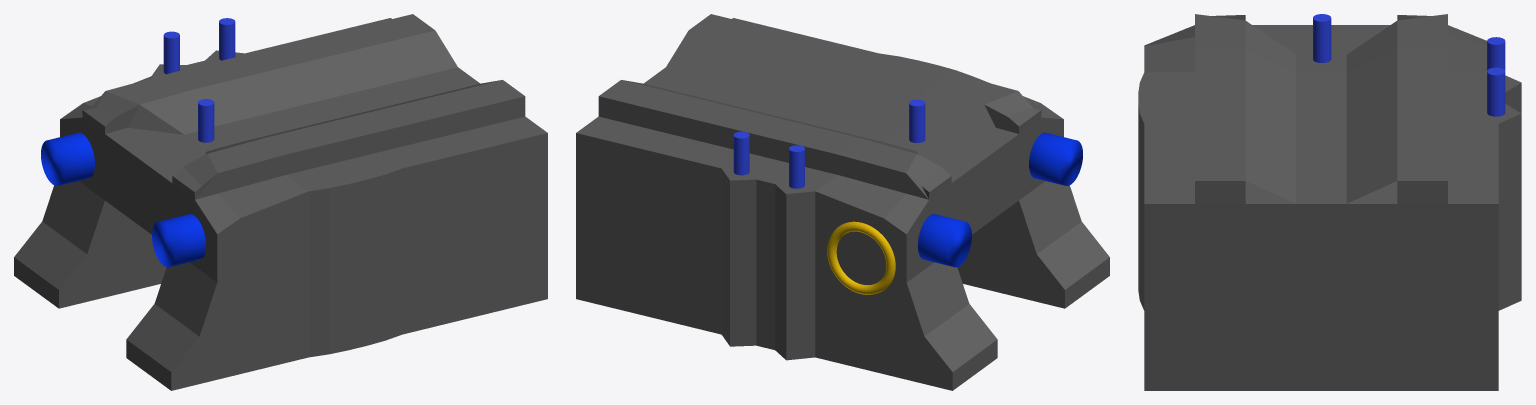
File: dcnew.fbx
3 renders of one model, left to right at view 1: azimuth 30°, elevation 25°; view 2: azimuth 150°, elevation 25°; view 3: azimuth 270°, elevation 25°, orthographic. The views are drawn at different scales.
Parts seen in each view (by area): view 1: Cube.022; view 2: Cube.022; view 3: Cube.022.
Boxes of the visible parts, <box> form: Cube.022: <box>14,14,547,390</box>; Cube.022: <box>576,14,1109,390</box>; Cube.022: <box>1138,14,1521,390</box>.
Bounding box in the file's own units: 28.55 × 14.73 × 22.34.
